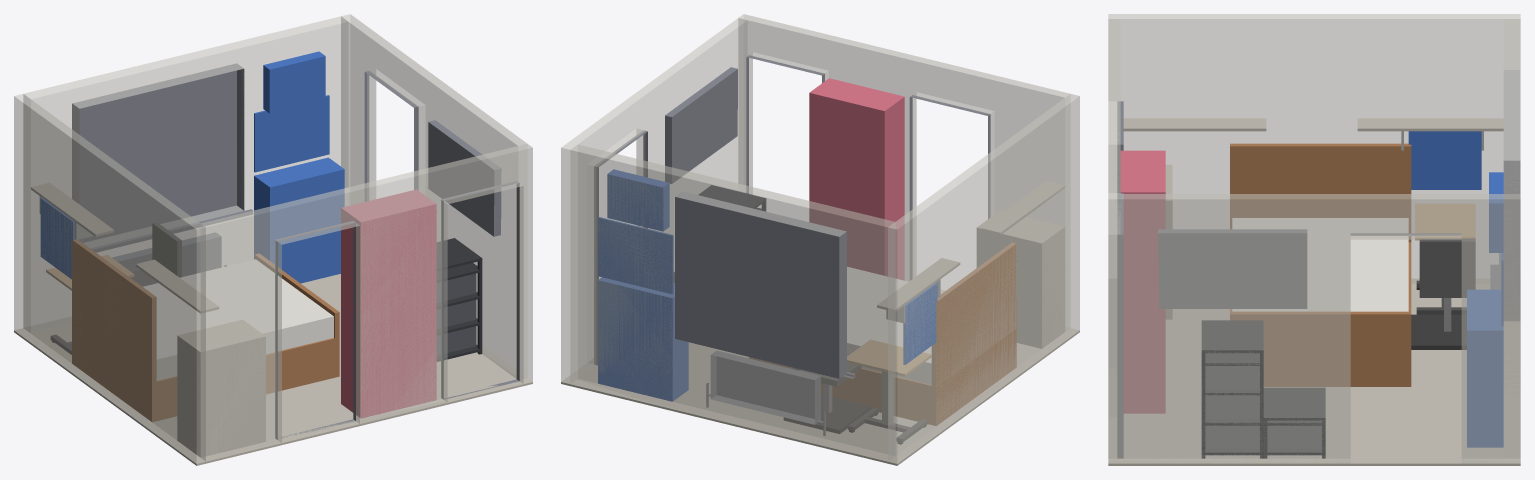
File: concept_D.glb
3 renders of one model, left to right at view 1: azimuth 30°, elevation 25°; view 2: azimuth 150°, elevation 25°; view 3: azimuth 270°, elevation 25°, orthographic. The views are drawn at different scales.
Visible parts, largest first — view 1: room_walls_front, room_walls_left, existing_room, room_walls_window, room_walls_right, 29_TONSTAD_81x37, room_walls_floor, 27_LILLBERGET_5_drawers_70x43x108, 02_headboard, 01_mattress, 24_BILLY_w__drawer_80x30x106, 00_HEMNES_bed (+12 smaller); view 2: room_walls_window, room_walls_left, existing_room, room_walls_front, room_walls_right, 29_TONSTAD_81x37, room_walls_floor, 24_BILLY_w__drawer_80x30x106, 02_headboard, 27_LILLBERGET_5_drawers_70x43x108, 00_HEMNES_bed, 25_BROR_pegboard__door_ (+9 smaller); view 3: room_walls_right, room_walls_left, room_walls_floor, existing_room, 02_headboard, 29_TONSTAD_81x37, 03_footboard, 01_mattress, room_walls_window, room_walls_front, 24_BILLY_w__drawer_80x30x106, 23_BROR_pegboard__desk_ (+21 smaller).
Boxes of the visible parts, x1,y1,x2,y2 form: room_walls_front: (201,144,532,461); room_walls_left: (14,94,205,463); existing_room: (72,63,519,439); room_walls_window: (23,16,348,332); room_walls_right: (341,14,527,378); 29_TONSTAD_81x37: (341,189,436,418); room_walls_floor: (14,274,532,465); 27_LILLBERGET_5_drawers_70x43x108: (177,320,265,457); 02_headboard: (72,240,156,420); 01_mattress: (143,259,333,380); 24_BILLY_w__drawer_80x30x106: (254,157,344,283); 00_HEMNES_bed: (72,337,339,421); room_walls_window: (570,144,895,461); room_walls_left: (888,94,1079,463); existing_room: (594,55,990,435); room_walls_front: (738,14,1070,328); room_walls_right: (561,18,747,383); 29_TONSTAD_81x37: (809,78,904,280); room_walls_floor: (561,327,1079,465); 24_BILLY_w__drawer_80x30x106: (598,277,688,401); 02_headboard: (932,242,1016,422); 27_LILLBERGET_5_drawers_70x43x108: (977,211,1065,348); 00_HEMNES_bed: (753,329,1016,425); 25_BROR_pegboard__door_: (598,217,673,293); room_walls_right: (1120,194,1520,463); room_walls_left: (1108,14,1520,283); room_walls_floor: (1108,278,1520,465); existing_room: (1117,70,1520,458); 02_headboard: (1230,143,1411,242); 29_TONSTAD_81x37: (1120,150,1165,413); 03_footboard: (1230,311,1411,386); 01_mattress: (1232,218,1408,311); room_walls_window: (1503,19,1520,458); room_walls_front: (1108,19,1120,463); 24_BILLY_w__drawer_80x30x106: (1467,290,1503,447); 23_BROR_pegboard__desk_: (1408,131,1481,189).
Bounding box in the file's own units: 3604 × 2420 × 3390.
